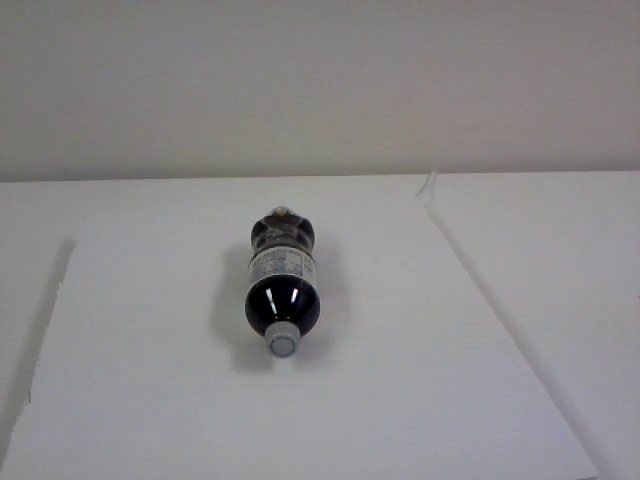botolplastik: (246, 208, 319, 357)
